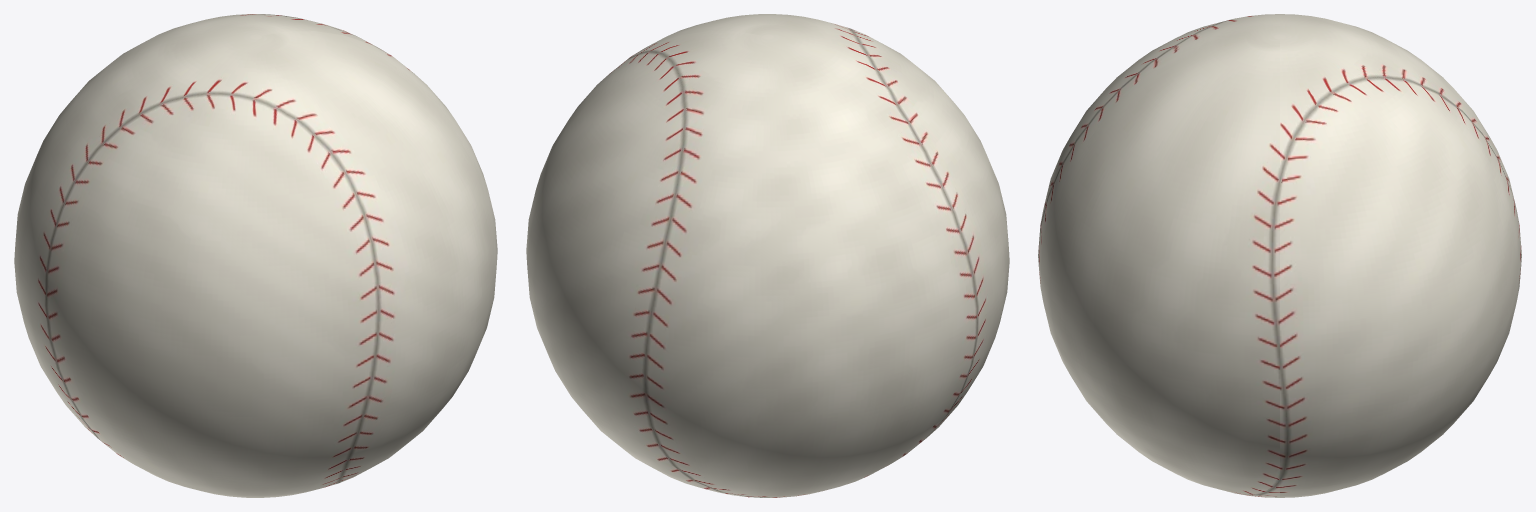
File: baseball.e83a238347.glb
3 renders of one model, left to right at view 1: azimuth 30°, elevation 25°; view 2: azimuth 150°, elevation 25°; view 3: azimuth 270°, elevation 25°, orthographic.
Parts seen in each view (by area): view 1: baseball_LOD0; view 2: baseball_LOD0; view 3: baseball_LOD0.
Boxes of the visible parts, x1=… form: baseball_LOD0: x1=14, y1=14, x2=497, y2=497; baseball_LOD0: x1=526, y1=14, x2=1009, y2=497; baseball_LOD0: x1=1038, y1=14, x2=1521, y2=497.
Size of what is drawn, in the model's own units: 0.242 by 0.242 by 0.242.
1 material, 1 textured.
